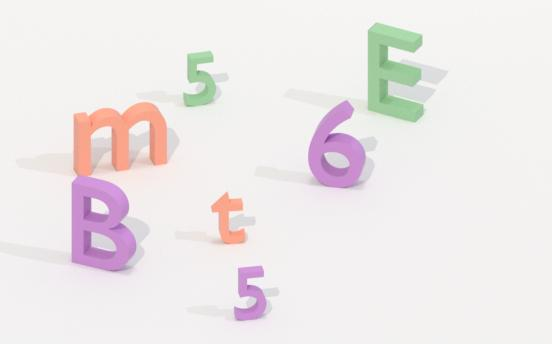5: (231, 261, 270, 325), (180, 48, 219, 107)
6: (305, 95, 369, 191)
E-hoa: (366, 18, 429, 125)
b: (69, 170, 137, 277)
m: (69, 99, 172, 178)
t: (210, 188, 250, 249)
